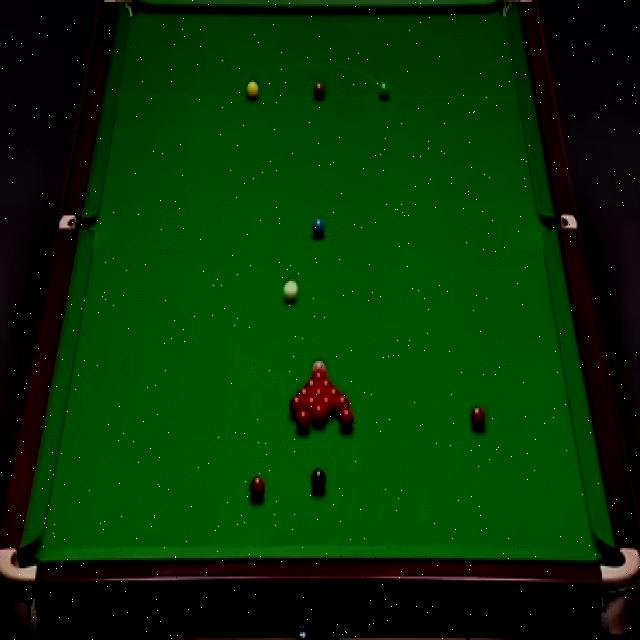black-ball: (311, 467, 327, 494), (312, 357, 328, 373)
blue-ball: (311, 218, 325, 240)
brown-ball: (313, 81, 325, 100)
green-ball: (378, 80, 394, 100)
red-ball: (249, 476, 266, 504), (339, 406, 354, 434), (295, 408, 311, 433), (310, 404, 327, 427), (470, 404, 486, 428), (289, 394, 305, 416), (320, 396, 333, 416), (334, 396, 349, 412), (304, 395, 319, 409), (297, 386, 313, 398), (309, 369, 328, 379), (326, 386, 342, 396), (304, 378, 318, 389), (320, 377, 334, 388), (313, 388, 326, 398)
white-ball: (282, 278, 300, 304)
yellow-ball: (246, 78, 259, 98)
